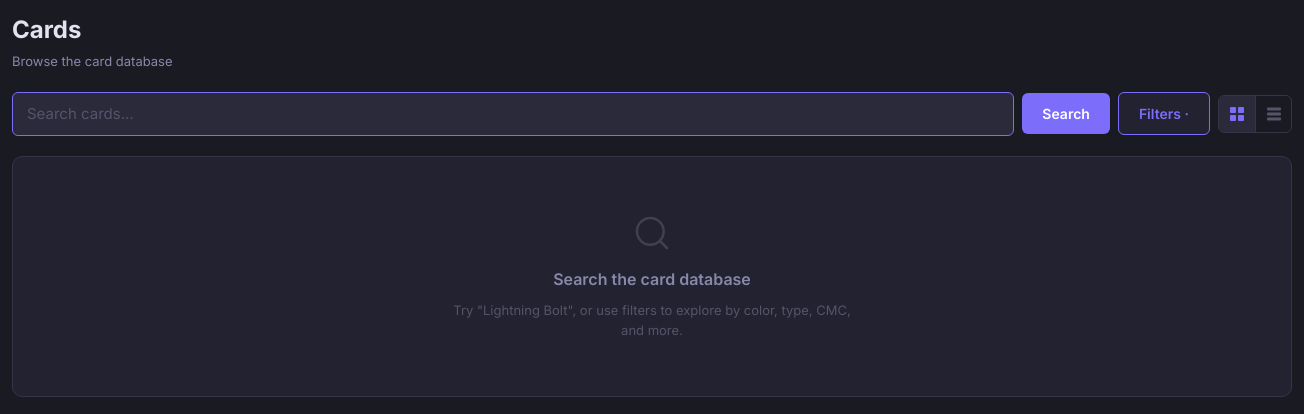
Test: CardsPage › shows error on search failure
Type "fail" into the search field with placeholder "Search cards…" at [513, 114], box [12,92,1014,136]
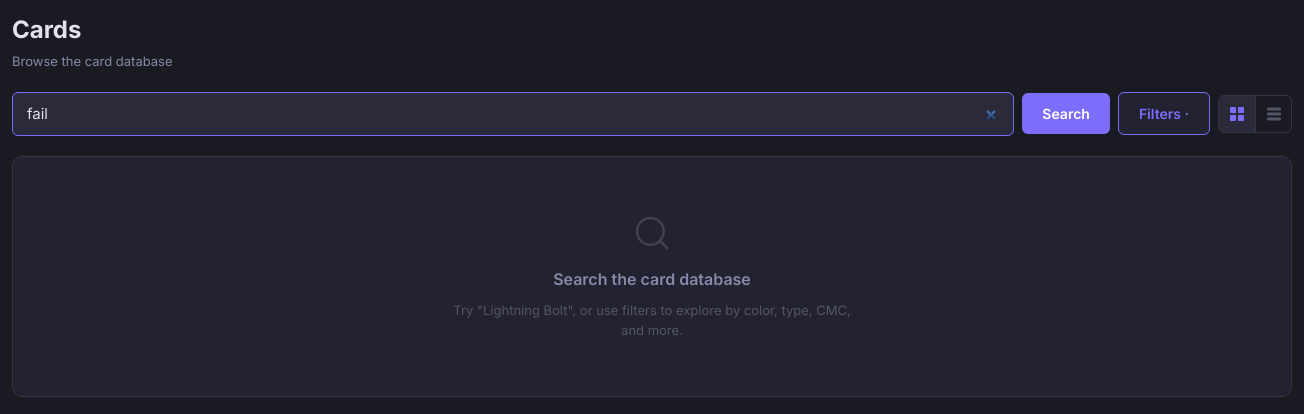
Submit the form with placeholder "Search cards…", box [12,92,1292,136]
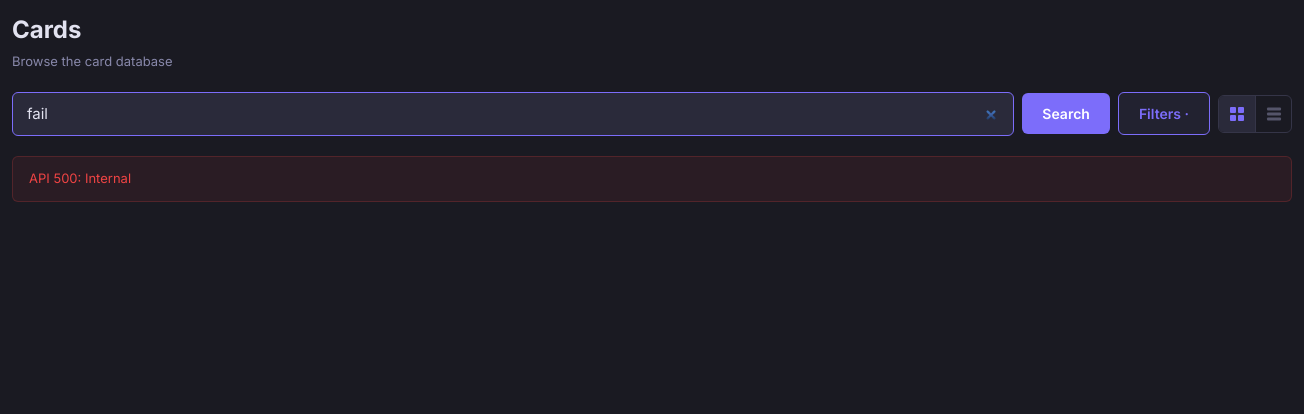
Now the text "API 500: Internal" is shown, box [12,156,1292,202]
